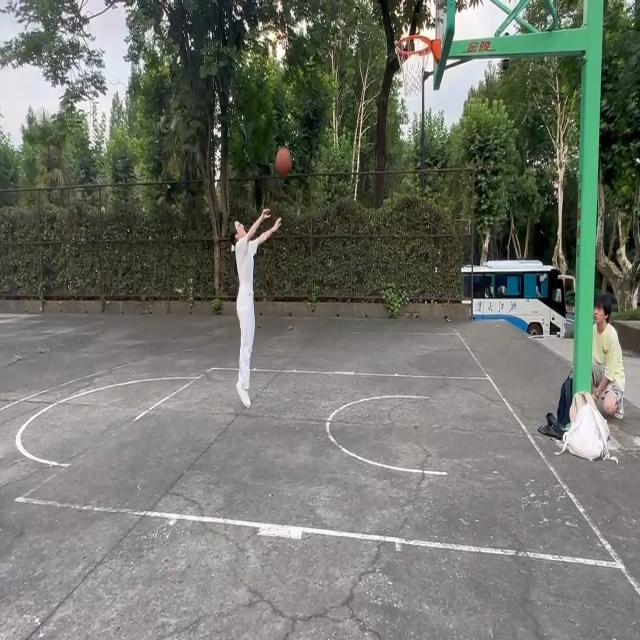basketball: (398, 38, 436, 97)
rim: (276, 148, 292, 176)
